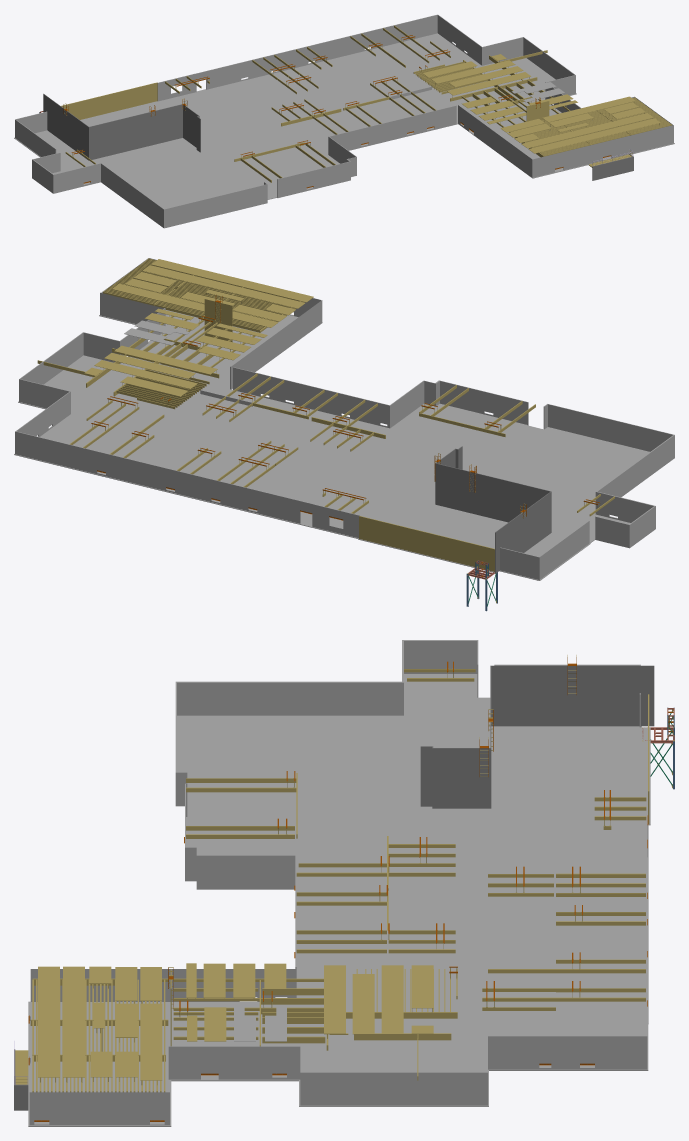
Rendered from john-mclaughlin-renovation.glb.
3 renders of one model, top to bottom at view 1: azimuth 30°, elevation 25°; view 2: azimuth 150°, elevation 25°; view 3: azimuth 270°, elevation 25°, orthographic. The views are drawn at different scales.
Parts seen in each view (by area): view 1: empty_2092, empty_2093, empty_195, empty_173, empty_174, empty_182, empty_191, empty_193, empty_192, empty_196, empty_189; view 2: empty_2092, empty_2093, empty_195, empty_173, empty_174, empty_193, empty_191, empty_196, empty_182, empty_192; view 3: empty_2092, empty_2093, empty_173, empty_174, empty_182, empty_191, empty_193, empty_192, empty_189, empty_185, empty_179, empty_184 (+6 smaller).
Boxes of the visible parts, x1=… form: empty_2092: x1=14, y1=14, x2=674, y2=228; empty_2093: x1=43, y1=93, x2=633, y2=180; empty_195: x1=61, y1=82, x2=157, y2=119; empty_173: x1=528, y1=118, x2=660, y2=153; empty_174: x1=521, y1=113, x2=653, y2=148; empty_182: x1=542, y1=96, x2=635, y2=122; empty_191: x1=431, y1=60, x2=515, y2=83; empty_193: x1=447, y1=72, x2=530, y2=95; empty_192: x1=449, y1=66, x2=523, y2=87; empty_196: x1=526, y1=101, x2=549, y2=121; empty_189: x1=422, y1=61, x2=477, y2=77; empty_2092: x1=14, y1=258, x2=674, y2=580; empty_2093: x1=435, y1=446, x2=551, y2=573; empty_195: x1=359, y1=516, x2=494, y2=571; empty_173: x1=151, y1=259, x2=313, y2=302; empty_174: x1=143, y1=265, x2=305, y2=308; empty_193: x1=114, y1=345, x2=217, y2=374; empty_191: x1=94, y1=360, x2=197, y2=389; empty_196: x1=204, y1=299, x2=232, y2=342; empty_182: x1=112, y1=283, x2=204, y2=311; empty_192: x1=104, y1=353, x2=195, y2=378; empty_2092: x1=28, y1=640, x2=650, y2=1126; empty_2093: x1=14, y1=665, x2=654, y2=1110; empty_173: x1=38, y1=966, x2=59, y2=1077; empty_174: x1=63, y1=966, x2=84, y2=1077; empty_182: x1=140, y1=1003, x2=162, y2=1080; empty_191: x1=381, y1=965, x2=403, y2=1034; empty_193: x1=324, y1=965, x2=345, y2=1034; empty_192: x1=352, y1=974, x2=374, y2=1034; empty_189: x1=411, y1=965, x2=433, y2=1008; empty_185: x1=204, y1=1007, x2=226, y2=1041; empty_179: x1=115, y1=1003, x2=137, y2=1037; empty_184: x1=203, y1=963, x2=225, y2=997.
Bounding box in the file's own units: 116 × 14.3 × 71.48.
